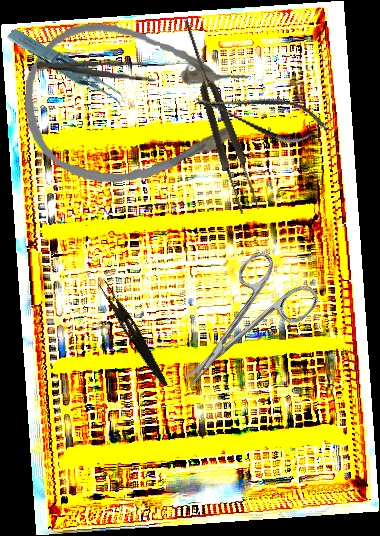Cannula: (19, 18, 254, 192)
Dressing Forceps: (94, 279, 174, 389), (36, 54, 166, 84)
Iris Scissors: (154, 242, 323, 411)
Micro Scissor: (190, 78, 333, 152)
Tissue Forceps: (175, 15, 262, 216), (5, 8, 130, 132)
